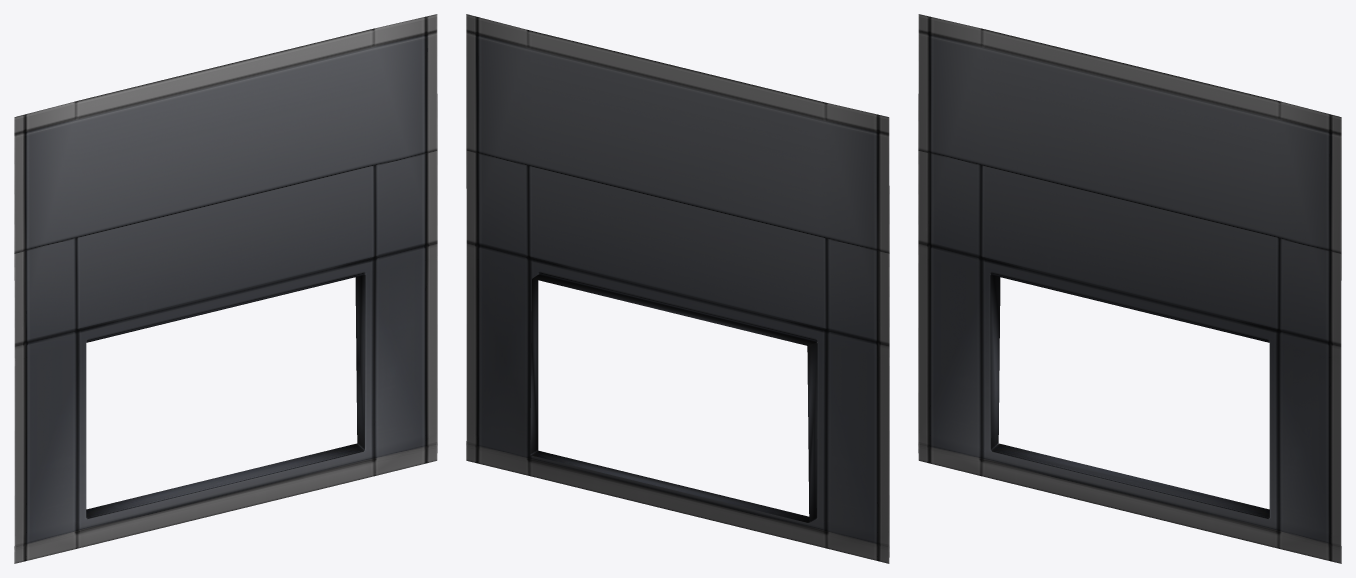
The model's file is WallWindow.fbx.
3 renders of one model, left to right at view 1: azimuth 30°, elevation 25°; view 2: azimuth 150°, elevation 25°; view 3: azimuth 330°, elevation 25°, orthographic.
Parts seen in each view (by area): view 1: WindowsWall:polySurface1; view 2: WindowsWall:polySurface1; view 3: WindowsWall:polySurface1.
Boxes of the visible parts, x1,y1,x2,y2 form: WindowsWall:polySurface1: (14, 14, 437, 563); WindowsWall:polySurface1: (466, 14, 889, 563); WindowsWall:polySurface1: (918, 14, 1341, 563).
Size of the model in its own units: 492 by 497 by 16.8.
